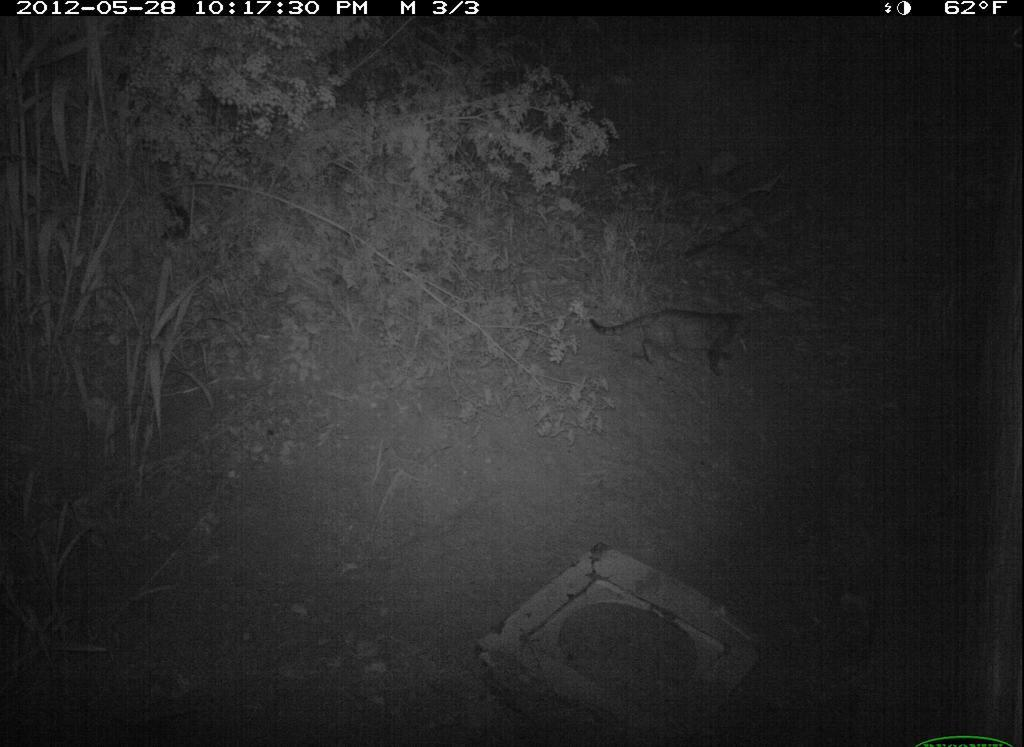cat: (577, 295, 772, 383)
